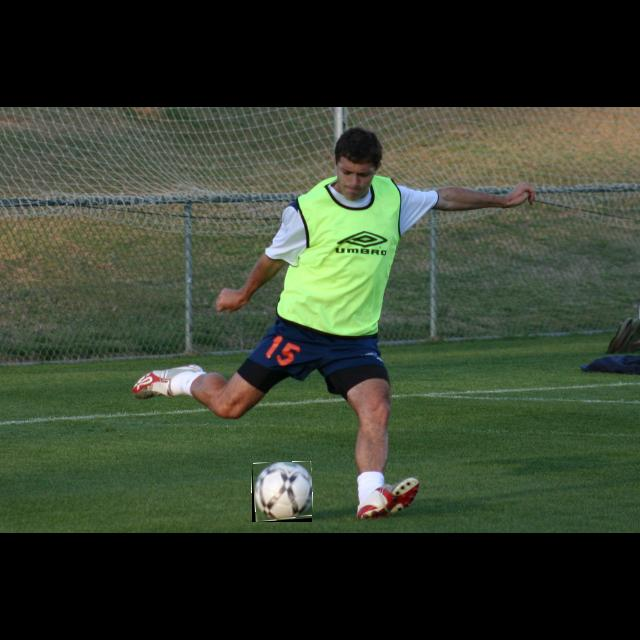Football: (252, 462, 312, 522)
